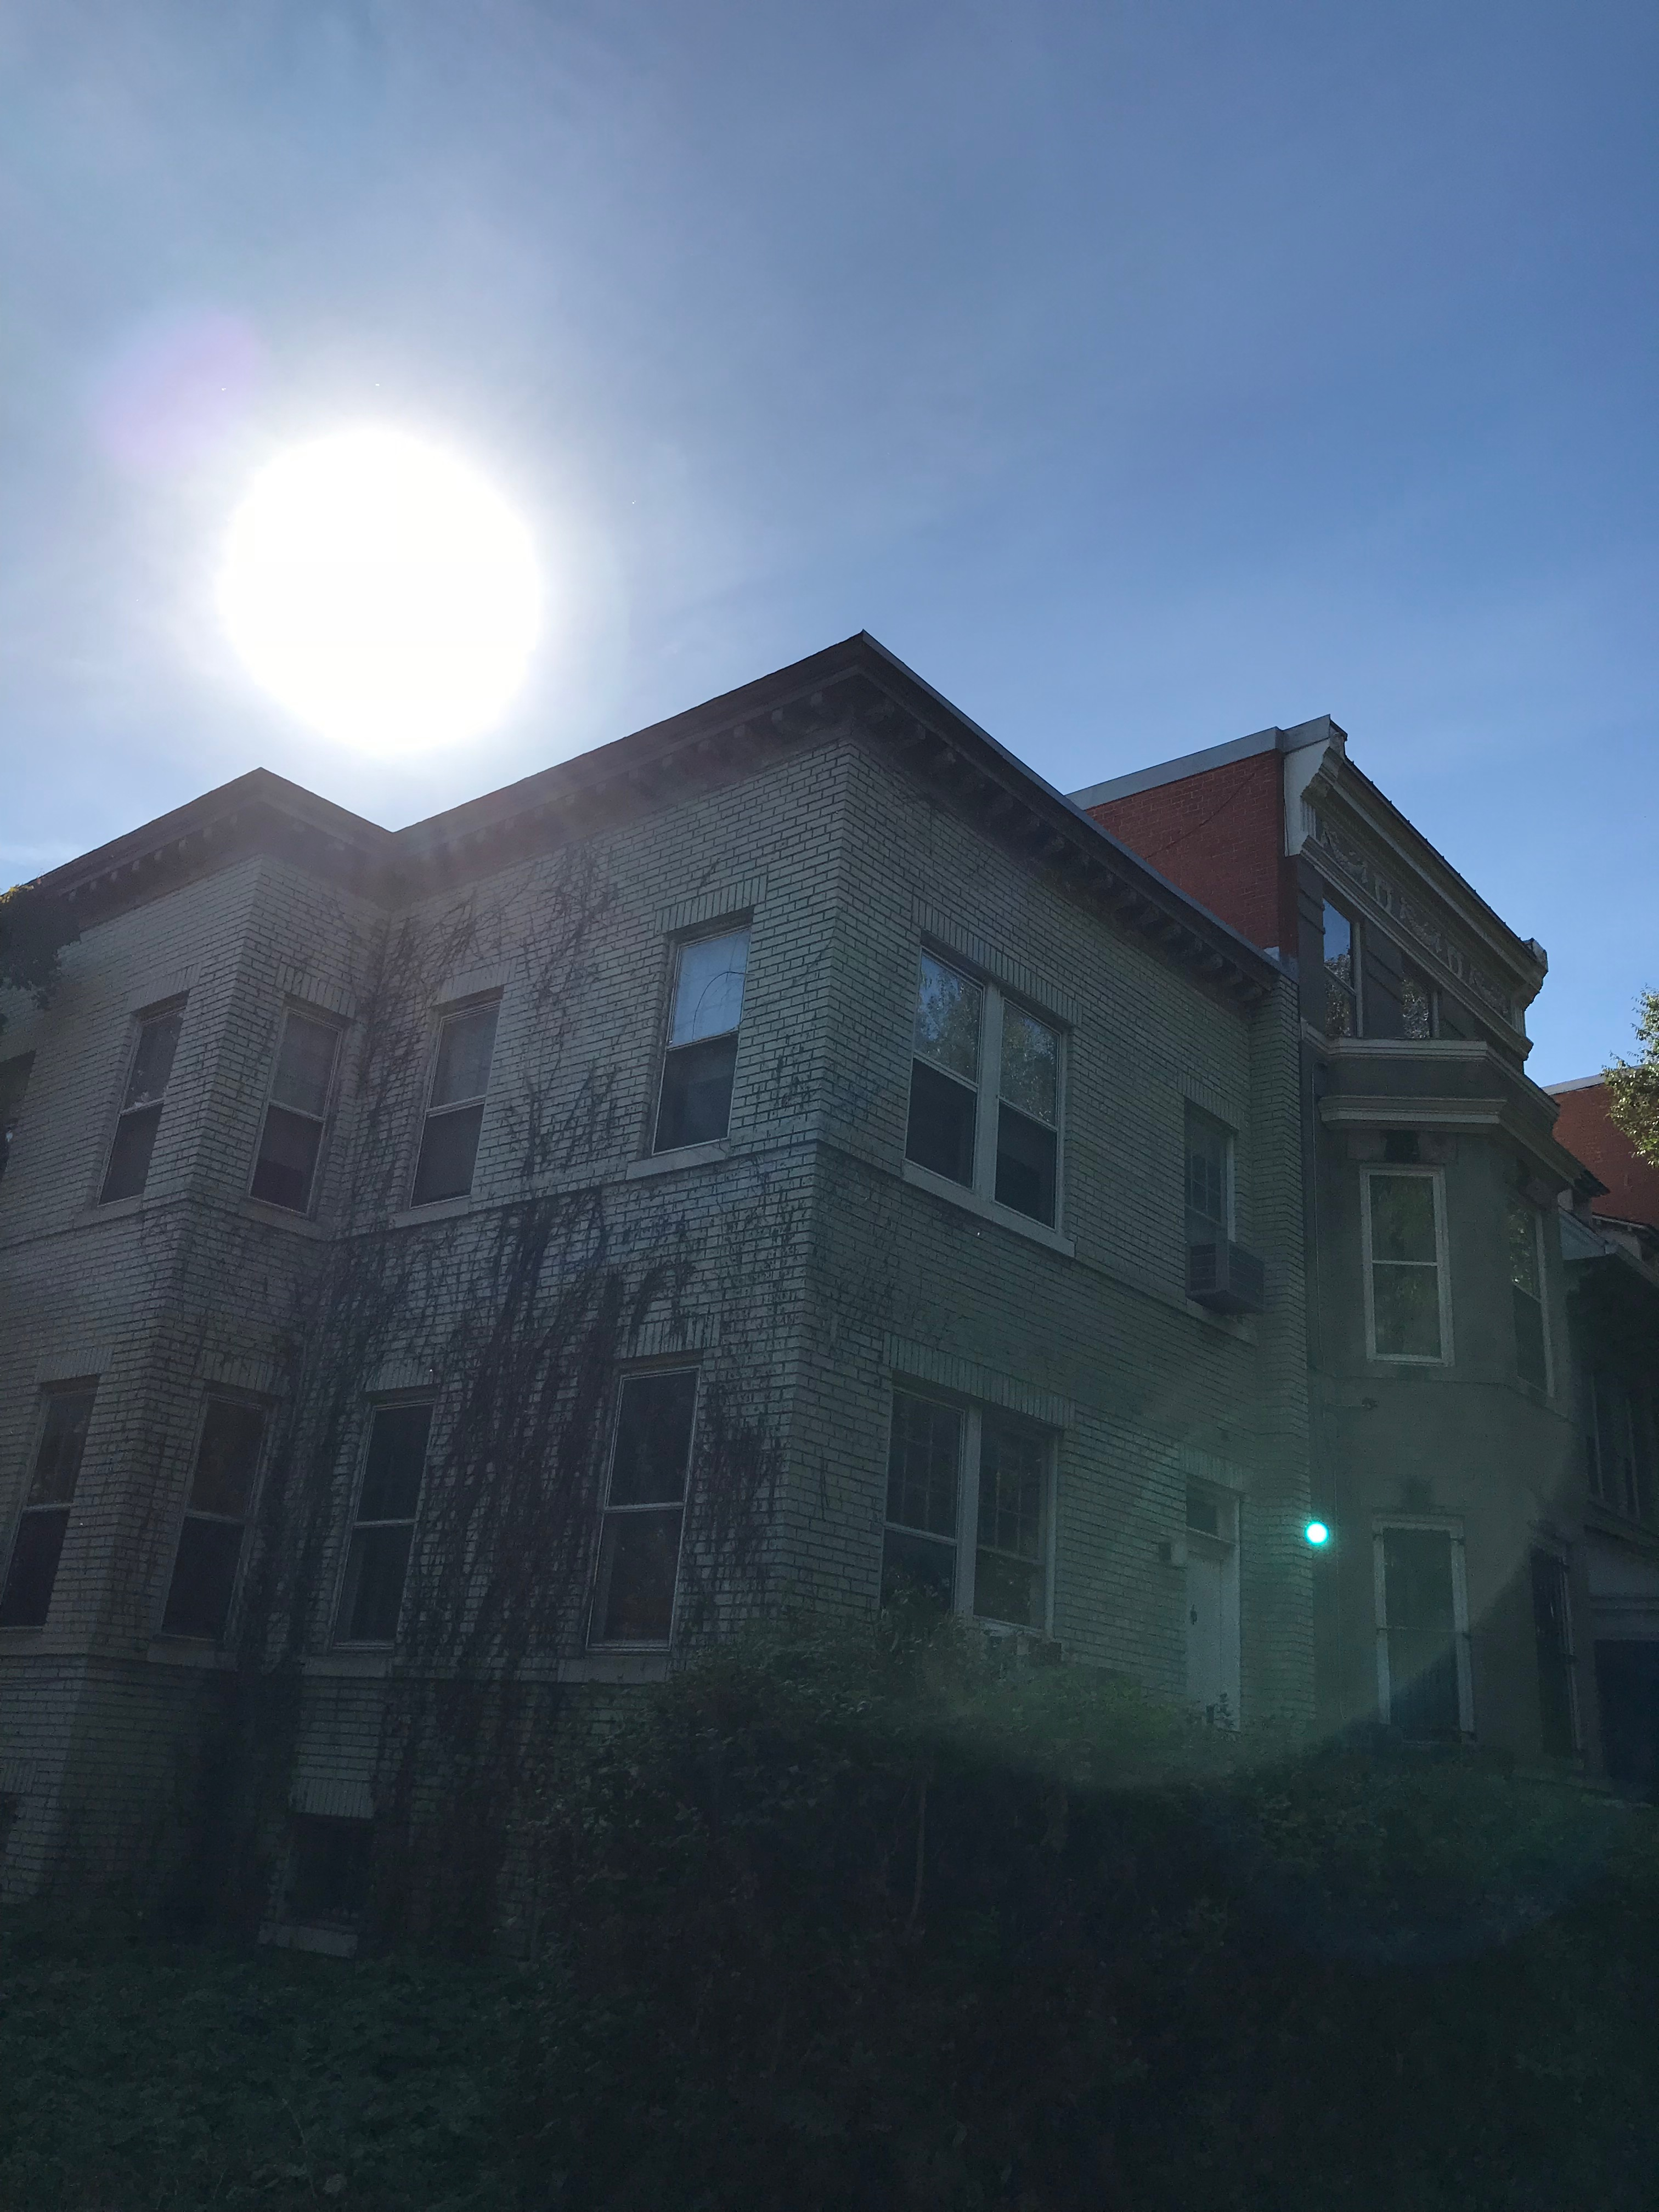flare: (1302, 1519, 1333, 1548)
